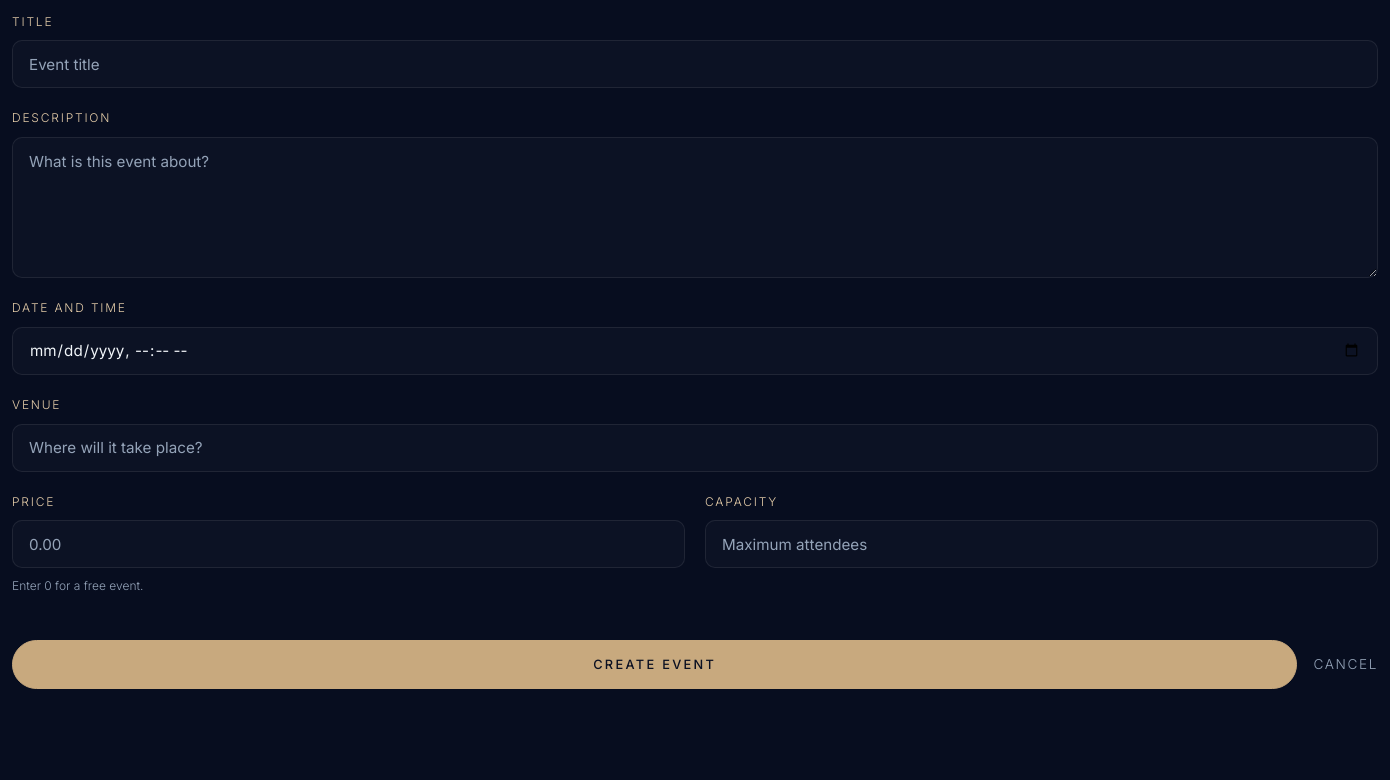
Test case: EMS-FR-07 EventForm › an empty form shows a message for every field and does not submit
The image size is (1390, 780).
Click the button "Create event". click: coordinates (655, 665)
box: top-left (12, 640), bottom-right (1297, 689)
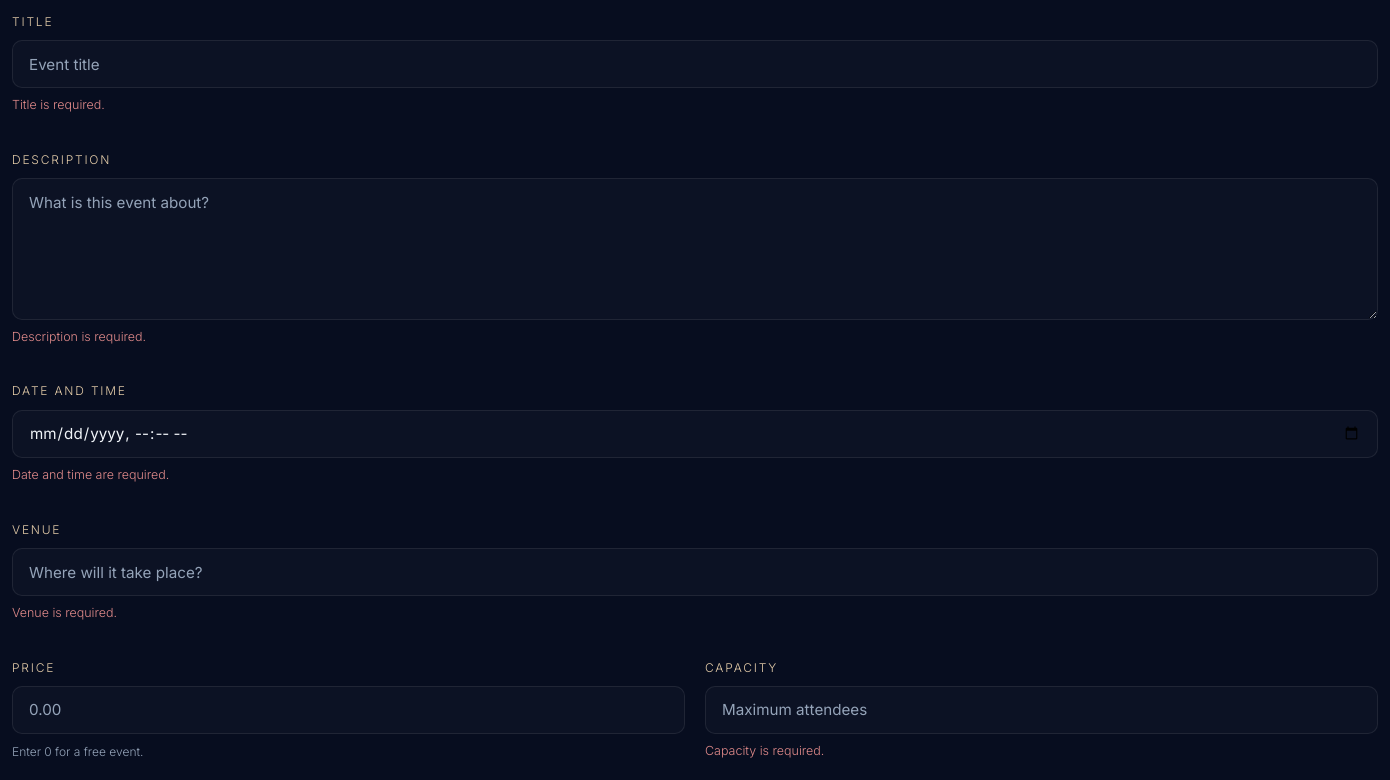
Expected: the text "Title is required." is shown, top-left (12, 97), bottom-right (105, 112)
Expected: the text "Description is required." is shown, top-left (12, 329), bottom-right (146, 344)
Expected: the text "Date and time are required." is shown, top-left (12, 467), bottom-right (169, 482)
